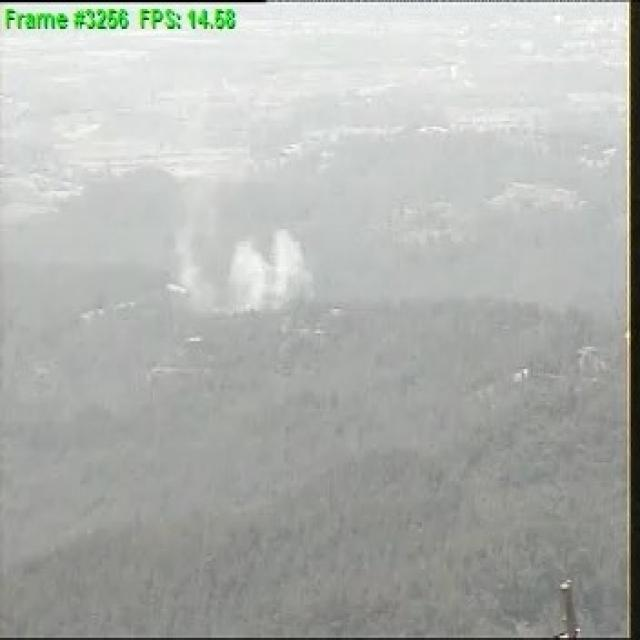smoke: (176, 227, 318, 320)
